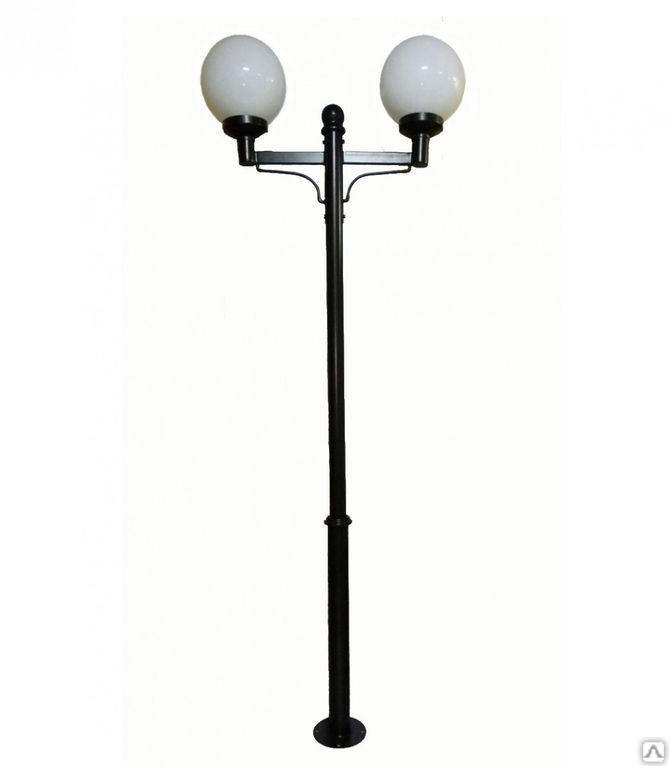Animal: (199, 26, 496, 745)
